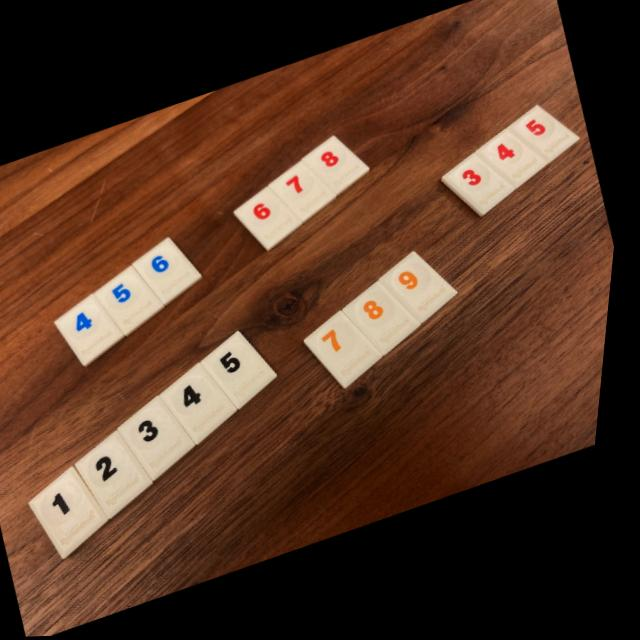black_1: (41, 467, 118, 560)
black_2: (85, 432, 163, 520)
black_3: (128, 397, 204, 482)
black_4: (168, 365, 246, 447)
black_5: (209, 333, 285, 412)
blue_4: (62, 294, 132, 368)
blue_5: (100, 267, 171, 337)
blue_6: (138, 239, 208, 306)
orange_7: (311, 313, 390, 392)
orange_8: (350, 284, 428, 358)
orange_9: (386, 255, 463, 326)
red_3: (445, 157, 519, 221)
red_4: (480, 133, 551, 192)
red_5: (511, 109, 583, 167)
red_6: (239, 189, 307, 253)
red_7: (273, 163, 341, 225)
red_8: (305, 138, 373, 198)
